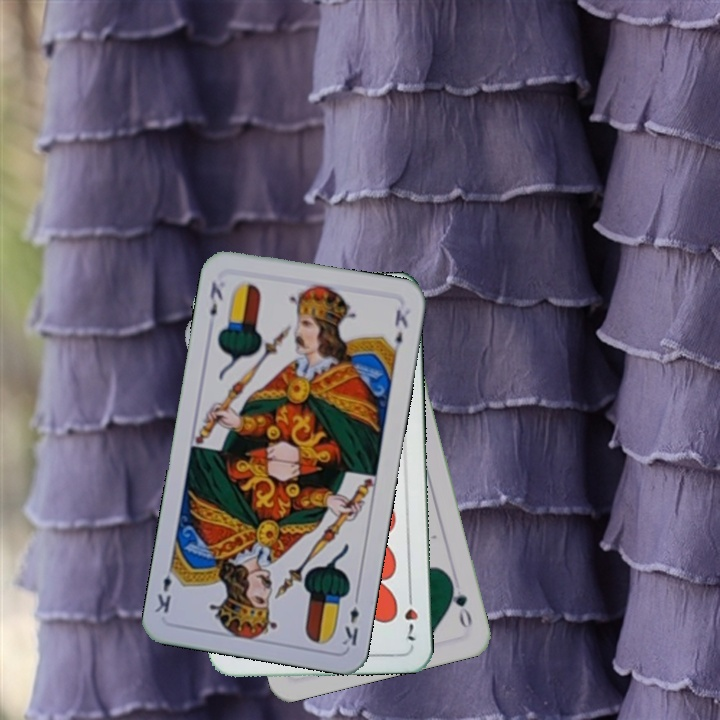EK: (338, 590, 362, 649), (205, 277, 226, 319)
GO: (446, 575, 475, 631)
H7: (400, 587, 420, 645)
